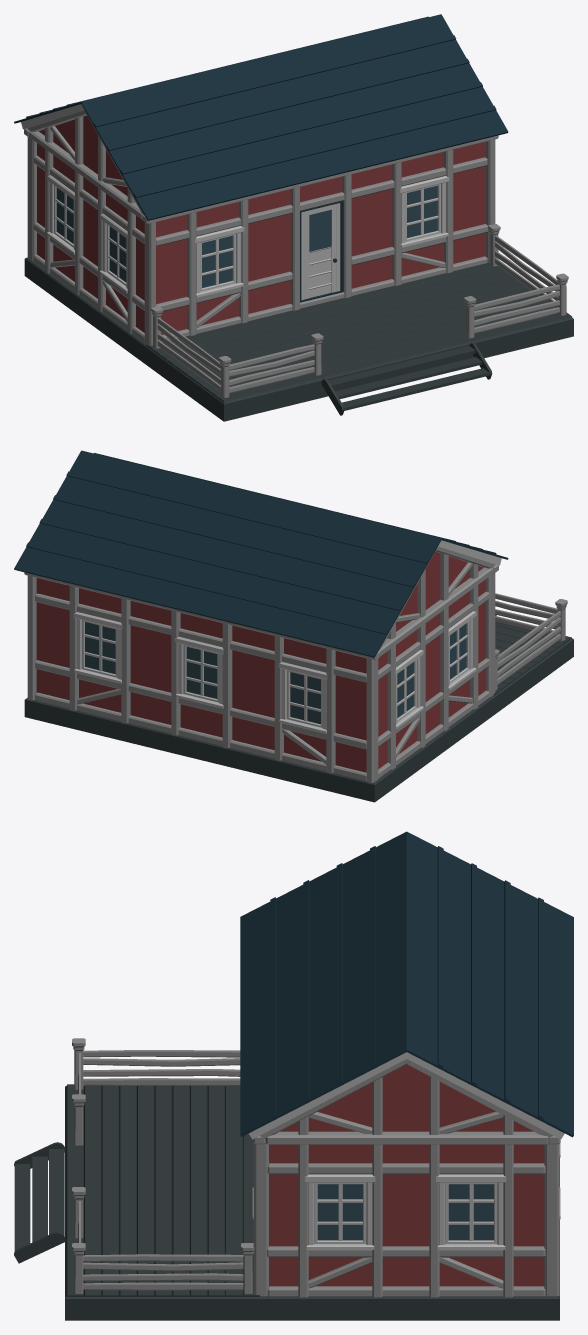
The model's file is house_10.glb.
3 views of the same model, one above another, from view 1: azimuth 30°, elevation 25°; view 2: azimuth 150°, elevation 25°; view 3: azimuth 270°, elevation 25° (orthographic). The views are drawn at different scales.
Visible parts, largest first — view 1: house_10; view 2: house_10; view 3: house_10.
Boxes of the visible parts, x1=… form: house_10: x1=14, y1=14, x2=573, y2=421; house_10: x1=14, y1=450, x2=573, y2=802; house_10: x1=14, y1=831, x2=573, y2=1320.
Size of the model in its own units: 10.64 by 6.34 by 11.53.
Materials: 1 (1 with a texture image).
